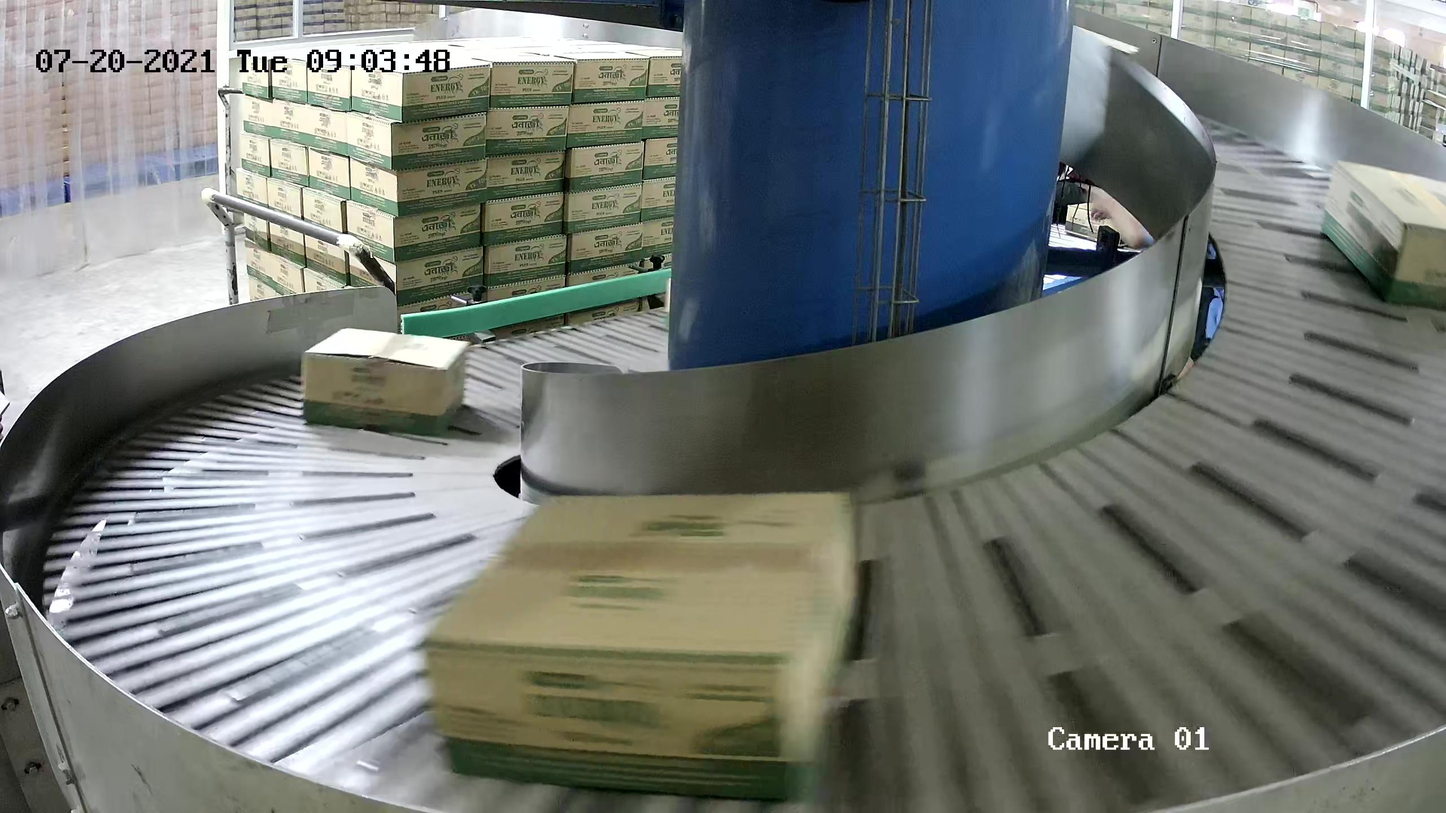Box: (422, 488, 866, 806), (1318, 159, 1446, 308), (301, 327, 471, 439)
